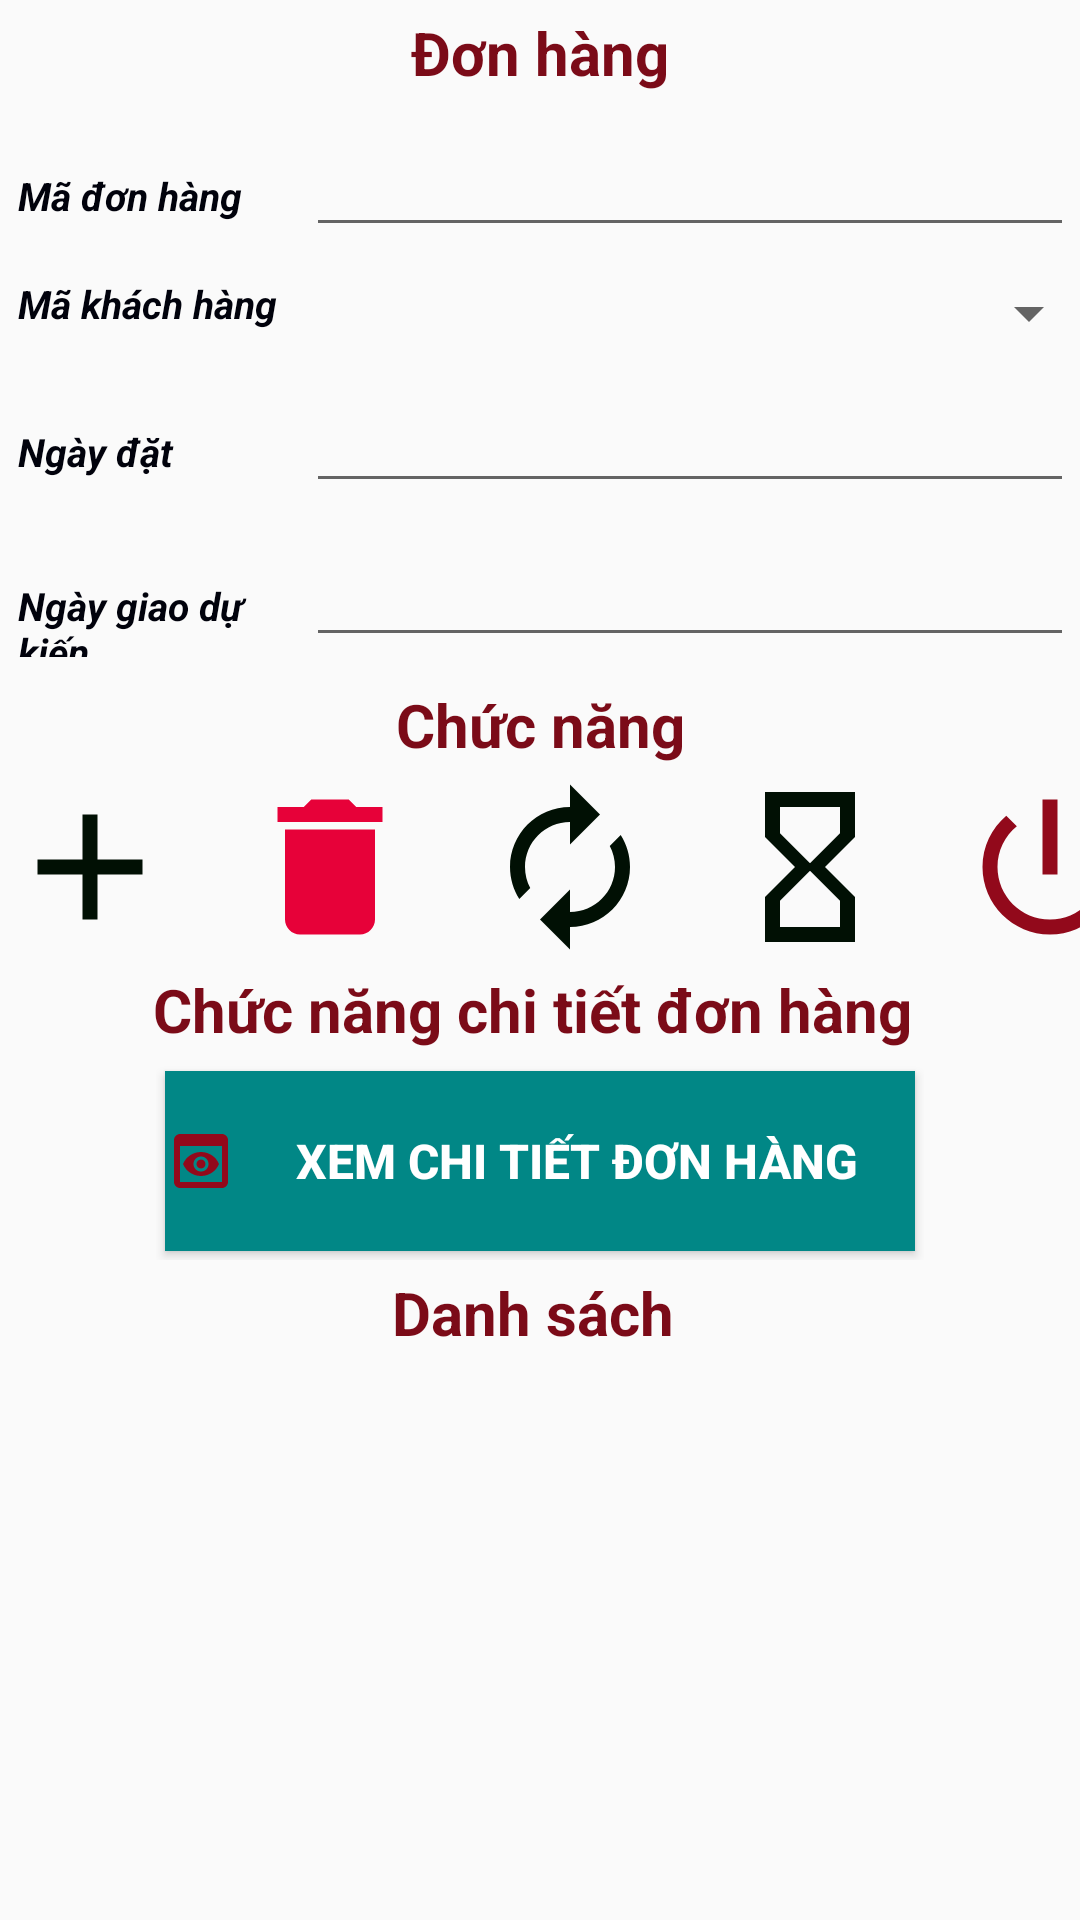

Where to tap for icons on this 1080×1920 app screen, as (x,y):
add: (90,867)
delete: (330,867)
hourglass empty: (810,867)
update: (570,867)
